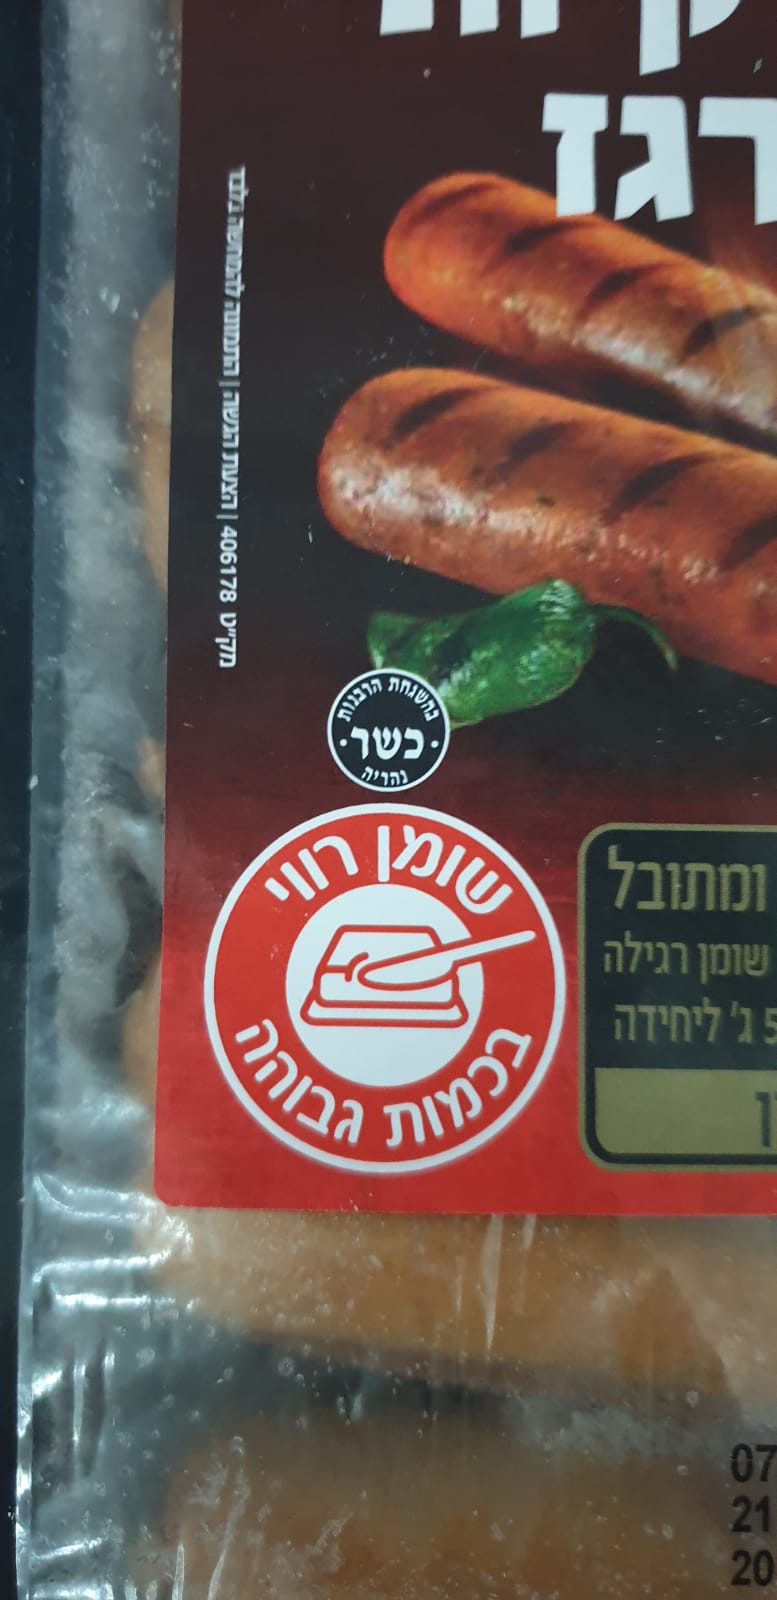fat: (200, 800, 570, 1181)
